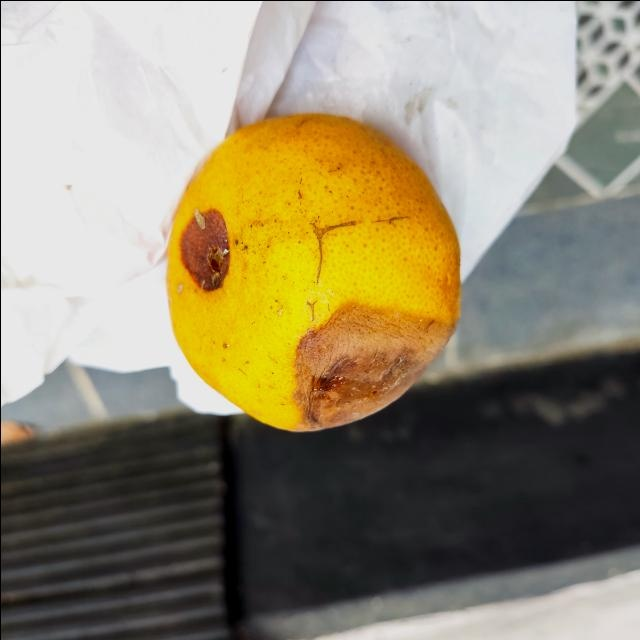agrume: (166, 113, 462, 435)
